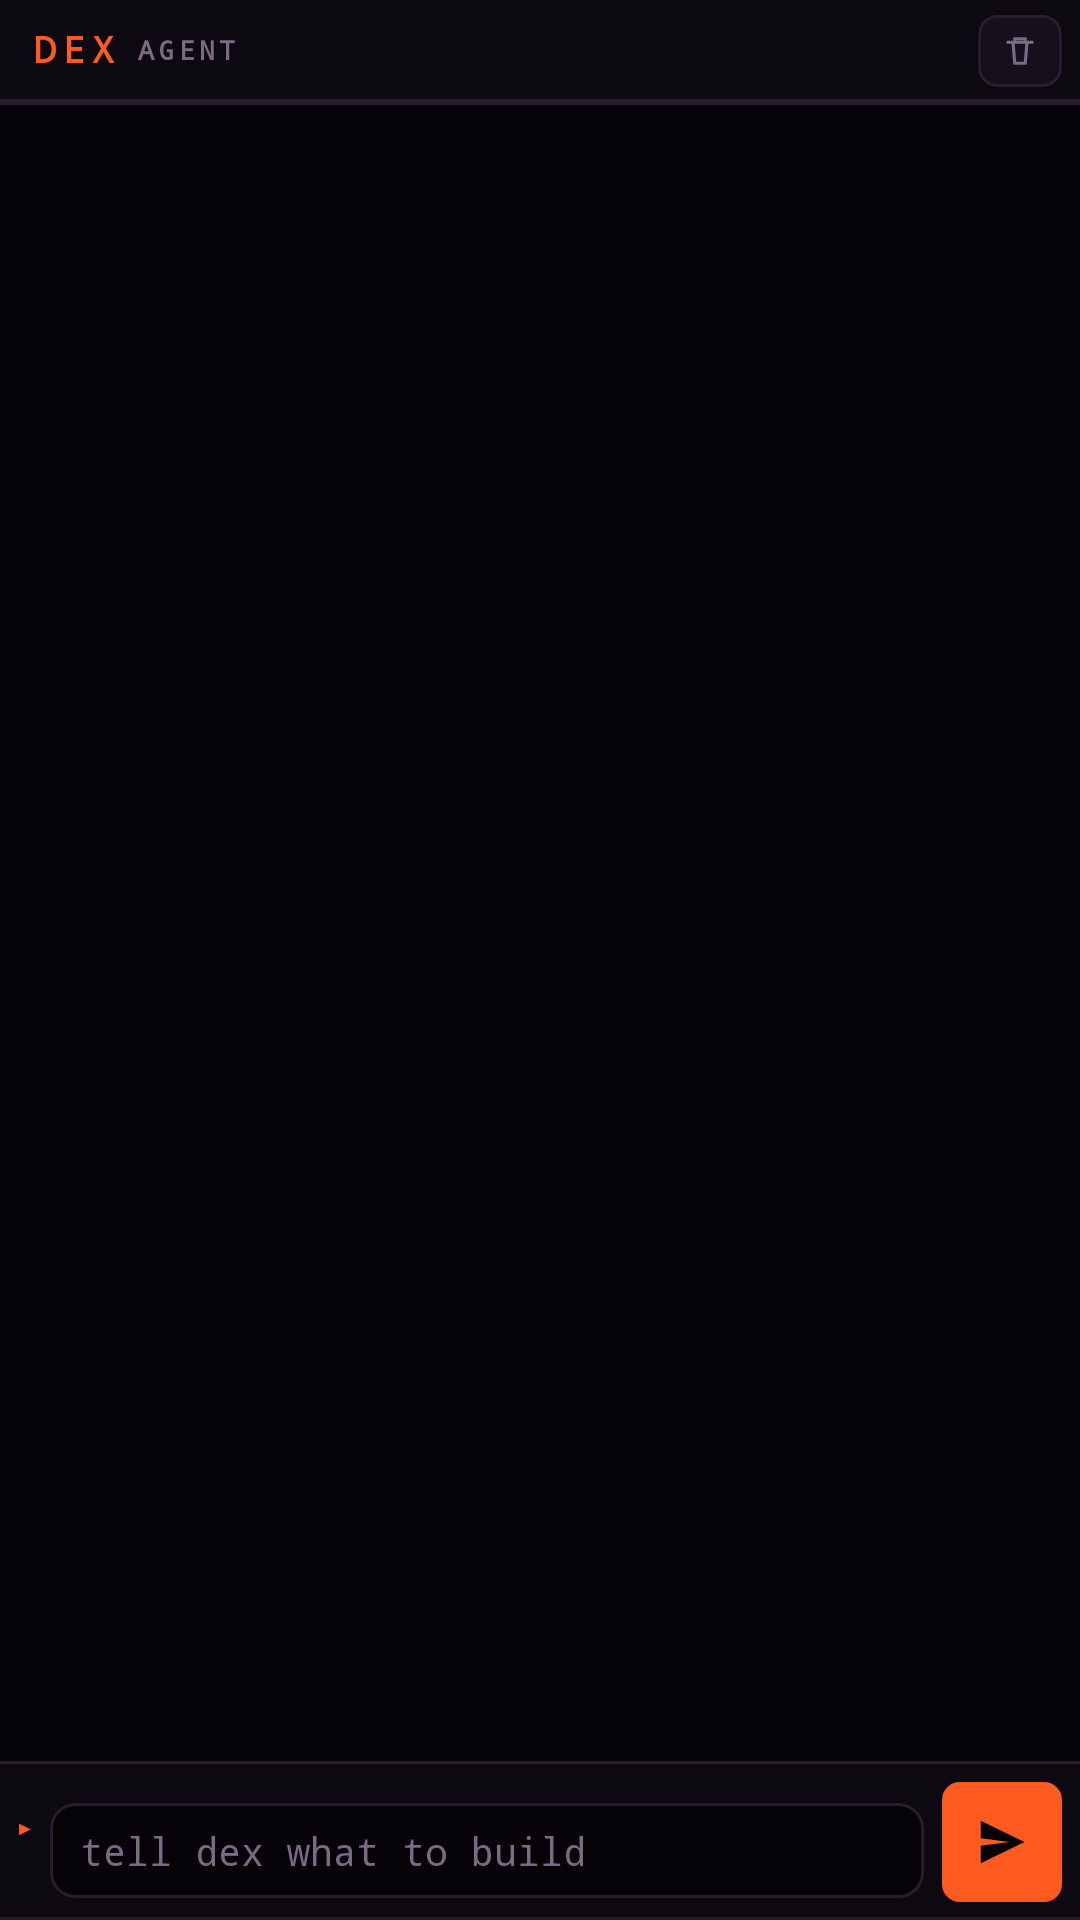

Locate icon controls on the screen. Image size 1080w x 1920h, boxes as (x1, y1, x2, y2).
Clear: (978, 15, 1062, 87)
Send: (942, 1782, 1062, 1902)
